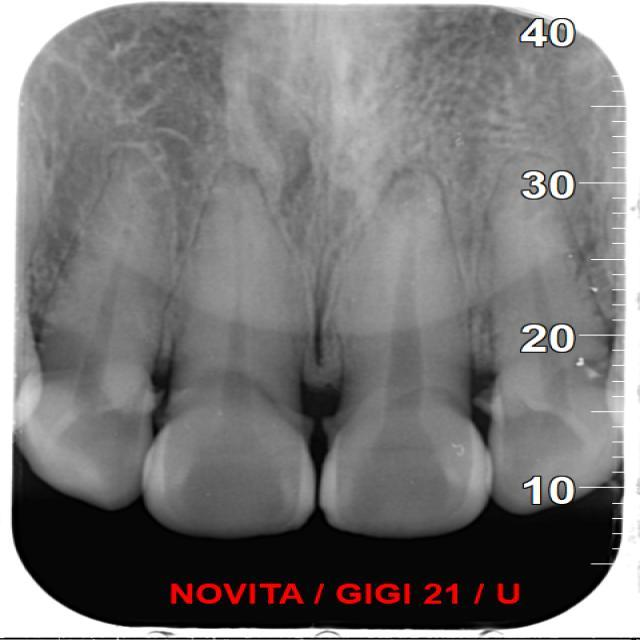individual-tooth-8tto: (144, 160, 322, 537), (332, 172, 482, 534), (20, 151, 168, 507), (494, 167, 632, 516)
